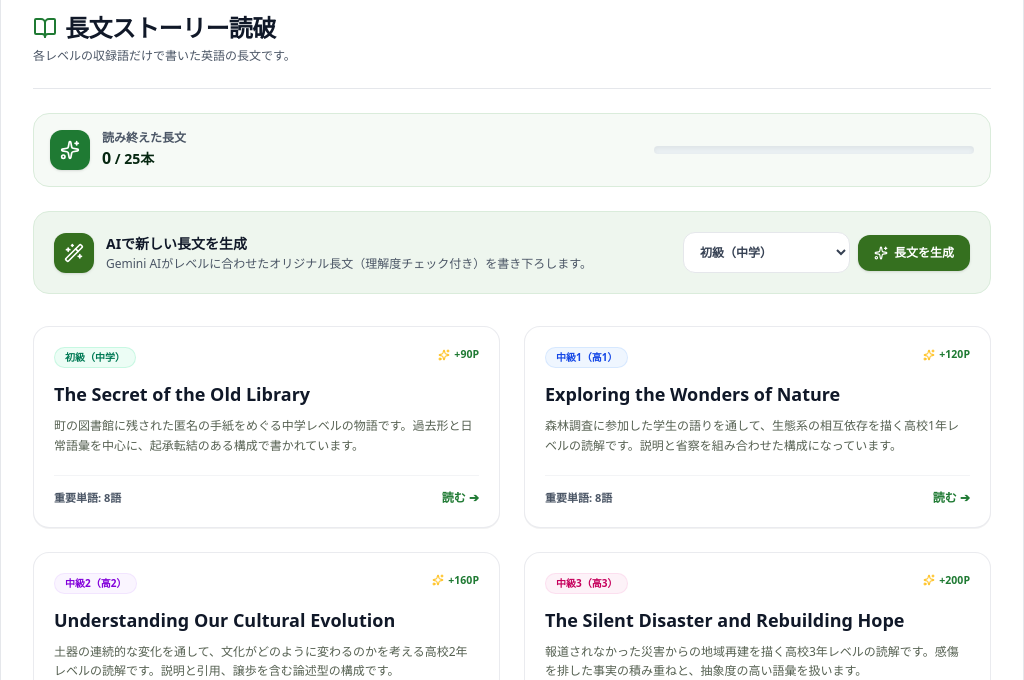
Test case: 復習への繋がり › 収録されていない語は追加できないと伝える
What coordinates should you click on to do the following:
click the heading "The Secret of the Old Library"
I would click on:
 (182, 394)
Its box is [54,382,310,406].
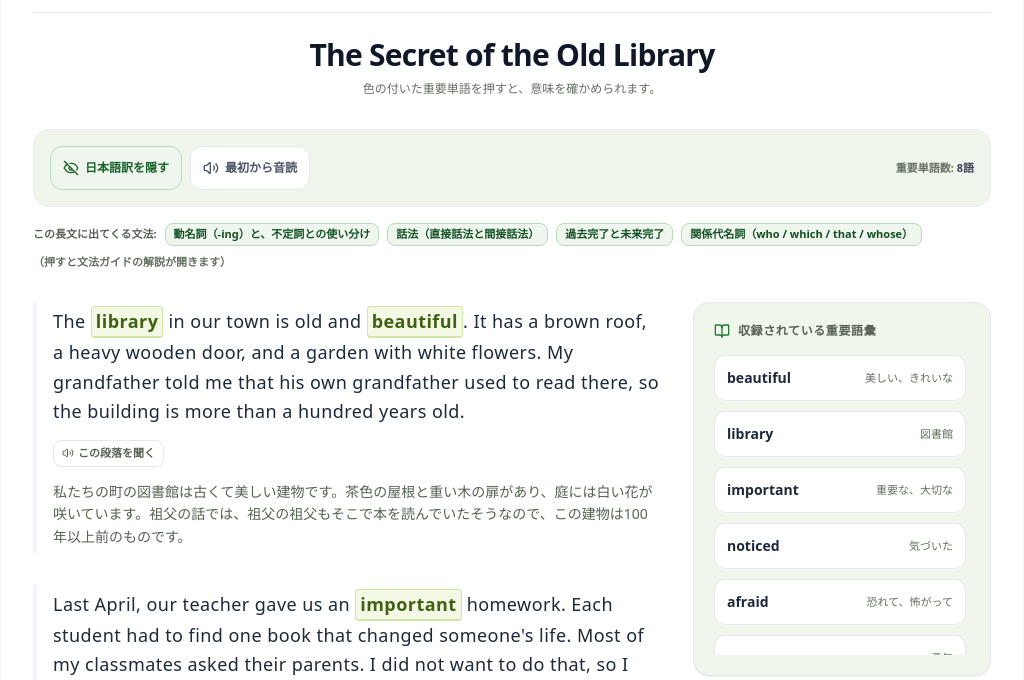
What coordinates should you click on to do the following:
click the button "beautiful"
I would click on:
 (415, 322)
Its box is [367,306,463,338].
(page scrolled)
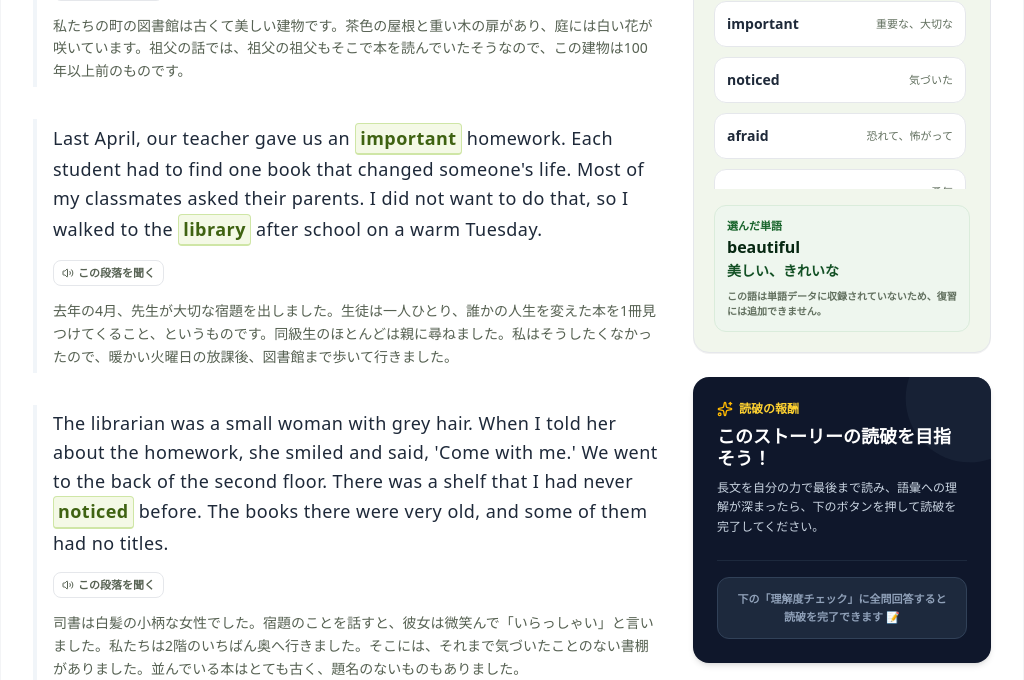
Expected: the text "この語は単語データに収録されていないため、復習には追加できません。" is shown, [727,288,957,318]
